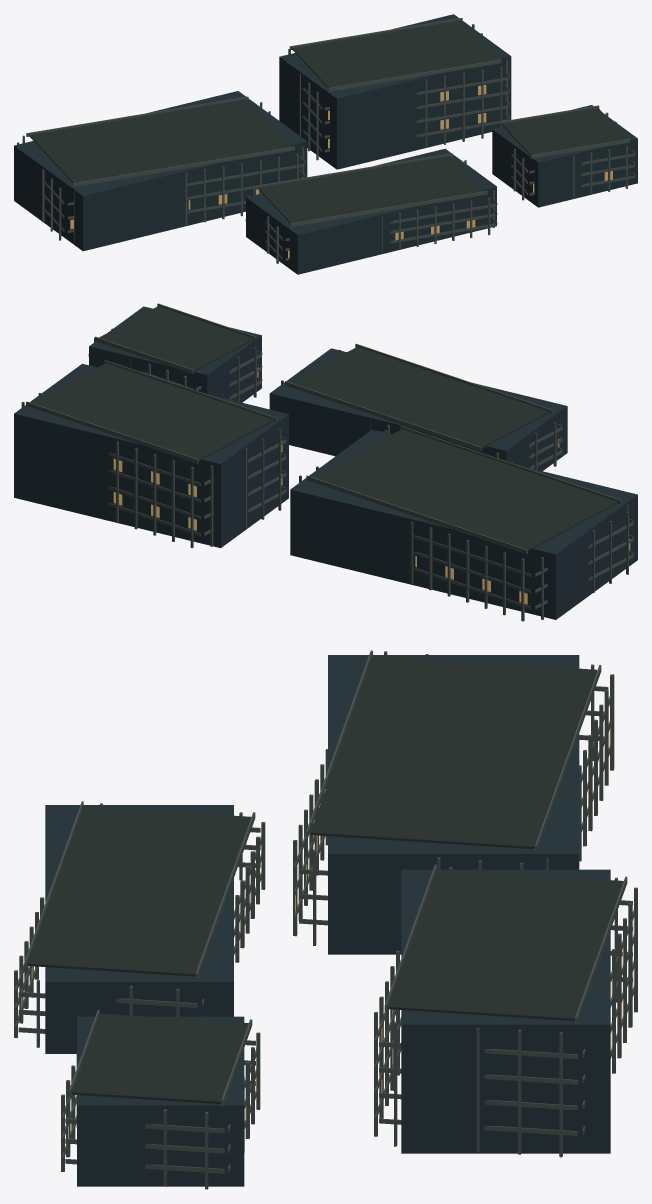
Rendered from mixc.glb.
3 views of the same model, one above another, from view 1: azimuth 30°, elevation 25°; view 2: azimuth 150°, elevation 25°; view 3: azimuth 270°, elevation 25° (orthographic). The views are drawn at different scales.
Parts seen in each view (by area): view 1: envelope, roof_deck, parapet, fins, floor_bands, night_windows; view 2: envelope, roof_deck, parapet, fins, floor_bands, night_windows; view 3: roof_deck, envelope, fins, floor_bands, parapet.
Part boxes in pixels (bbox=[...]): envelope: bbox=[14, 14, 637, 274]; roof_deck: bbox=[29, 20, 626, 223]; parapet: bbox=[26, 18, 629, 226]; fins: bbox=[17, 24, 627, 263]; floor_bands: bbox=[41, 71, 635, 260]; night_windows: bbox=[70, 84, 612, 257]; envelope: bbox=[14, 306, 637, 619]; roof_deck: bbox=[31, 306, 617, 550]; parapet: bbox=[26, 303, 621, 554]; fins: bbox=[21, 328, 628, 621]; floor_bands: bbox=[88, 351, 633, 609]; night_windows: bbox=[113, 367, 630, 604]; roof_deck: bbox=[27, 655, 623, 1103]; envelope: bbox=[45, 655, 610, 1186]; fins: bbox=[14, 651, 637, 1189]; floor_bands: bbox=[14, 686, 634, 1173]; parapet: bbox=[24, 650, 627, 1105].
Size of the model in its own units: 201 by 28.5 by 119.
